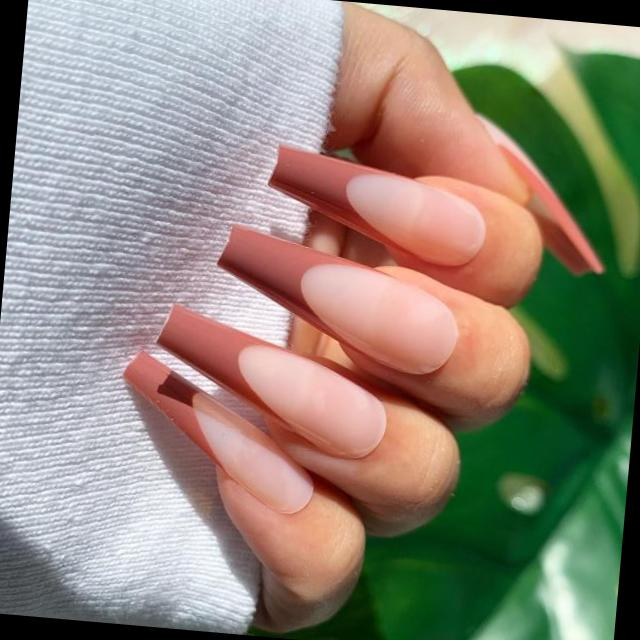Nail: (218, 226, 456, 375), (158, 305, 385, 458), (124, 352, 312, 512), (266, 144, 484, 266), (478, 116, 602, 273)
